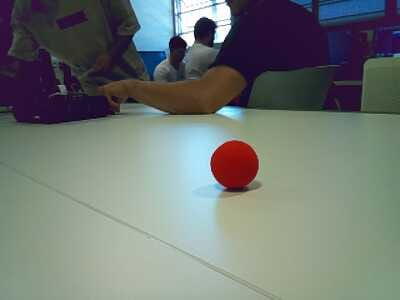bola_cerca: (208, 139, 264, 195)
